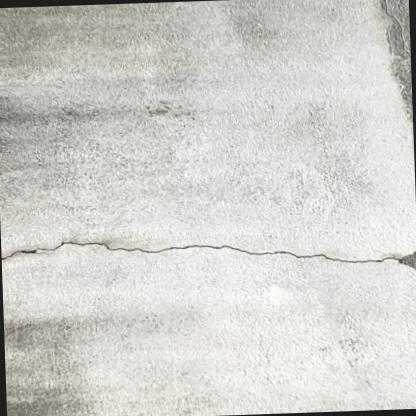crack: (2, 240, 416, 264)
